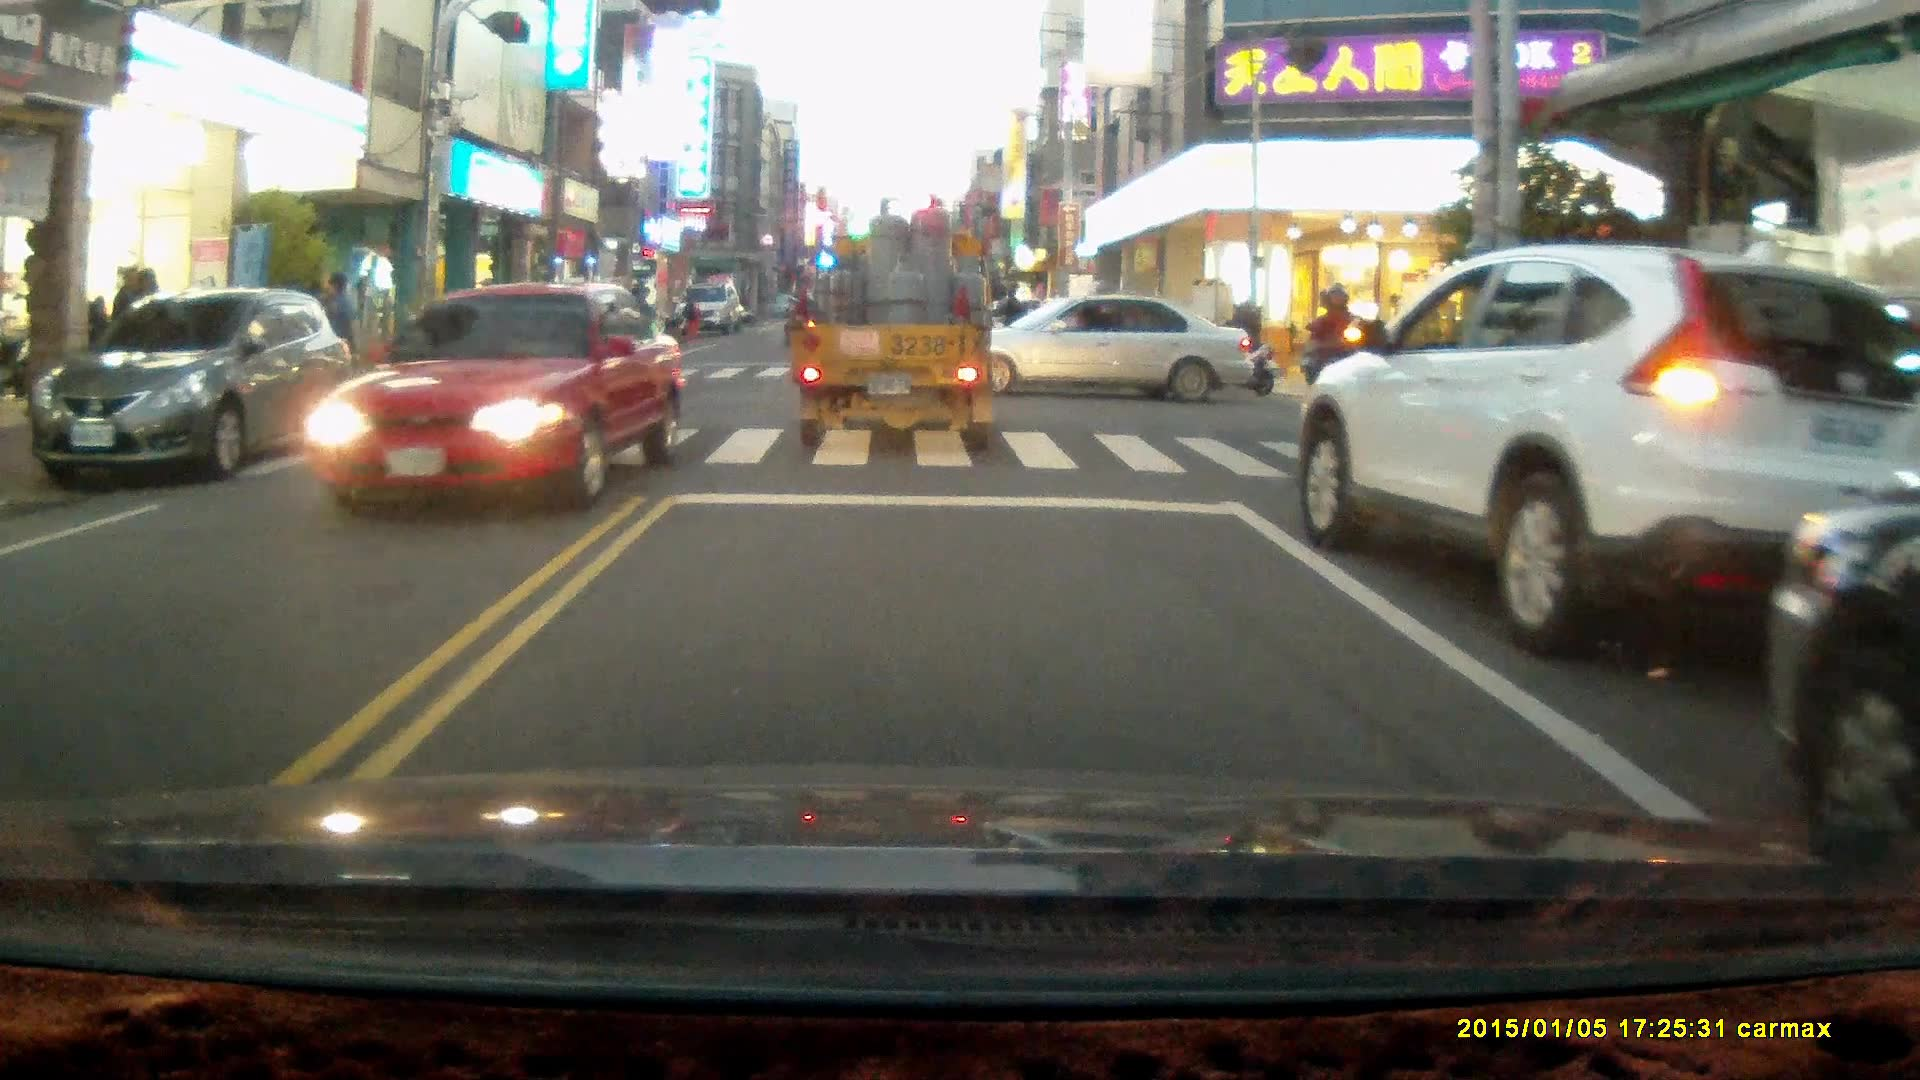pedestrian: (312, 270, 356, 391)
rider: (1296, 280, 1383, 454), (1185, 288, 1276, 395)
vehicle: (1292, 245, 1920, 666), (311, 281, 697, 510), (26, 286, 359, 489), (791, 192, 1001, 459), (932, 293, 1253, 408), (676, 284, 742, 336)
